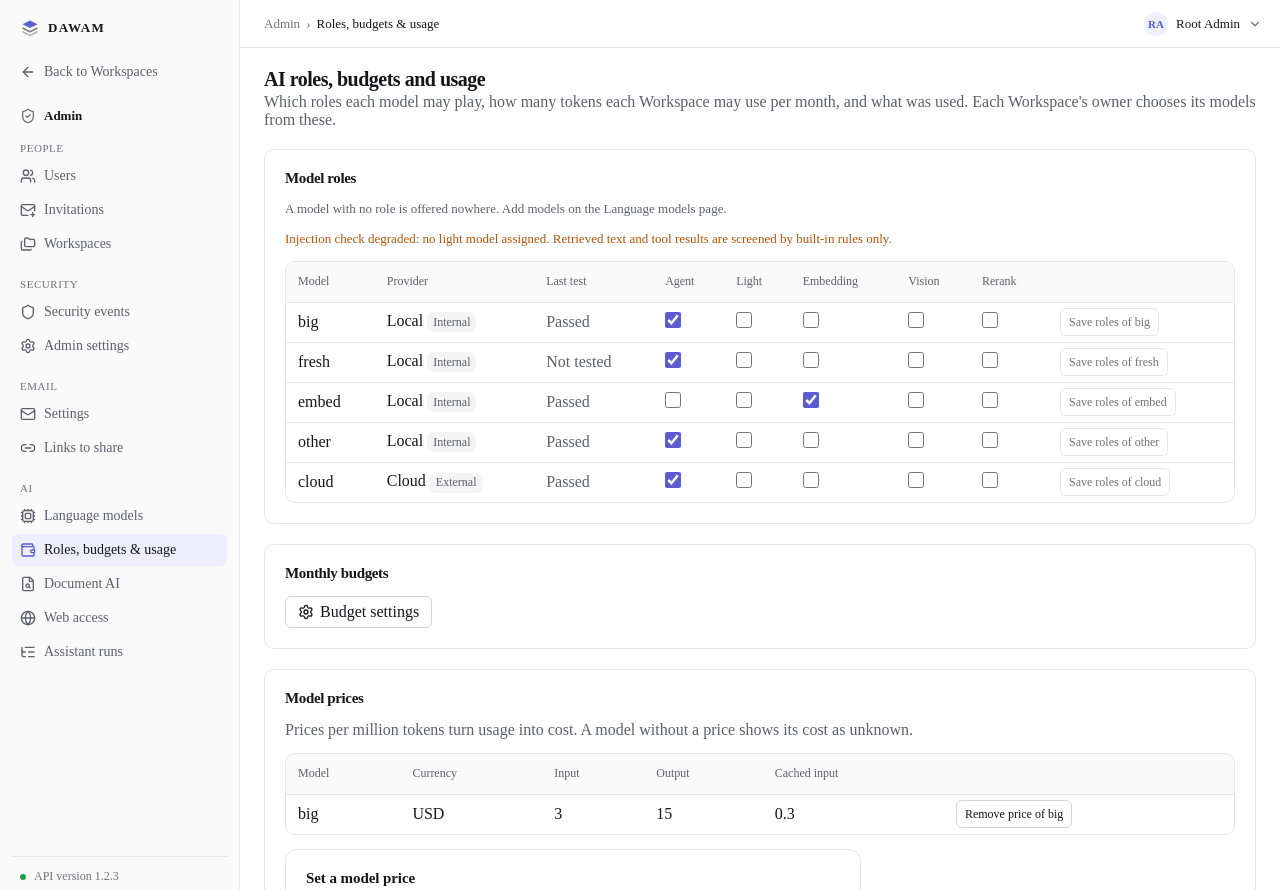
AI roles, budgets and usage page › unticking a role a Workspace depends on › asks for a replacement per Workspace and role, then saves with it
Click the checkbox named "Agent role of big". click: (673, 320)
box: [665,312,681,328]
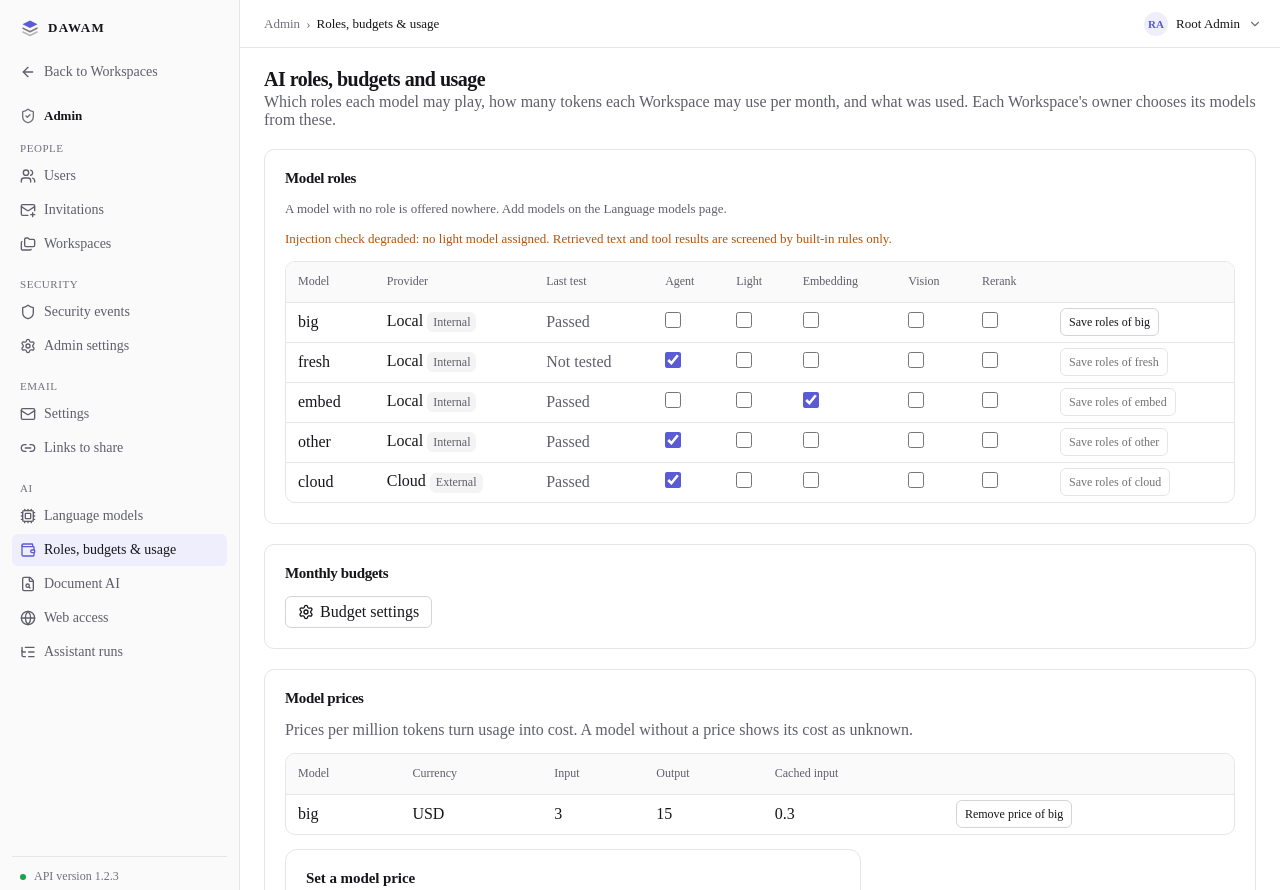
Click the button "Save roles of big". click: (1110, 322)
box: [1060,308,1159,336]
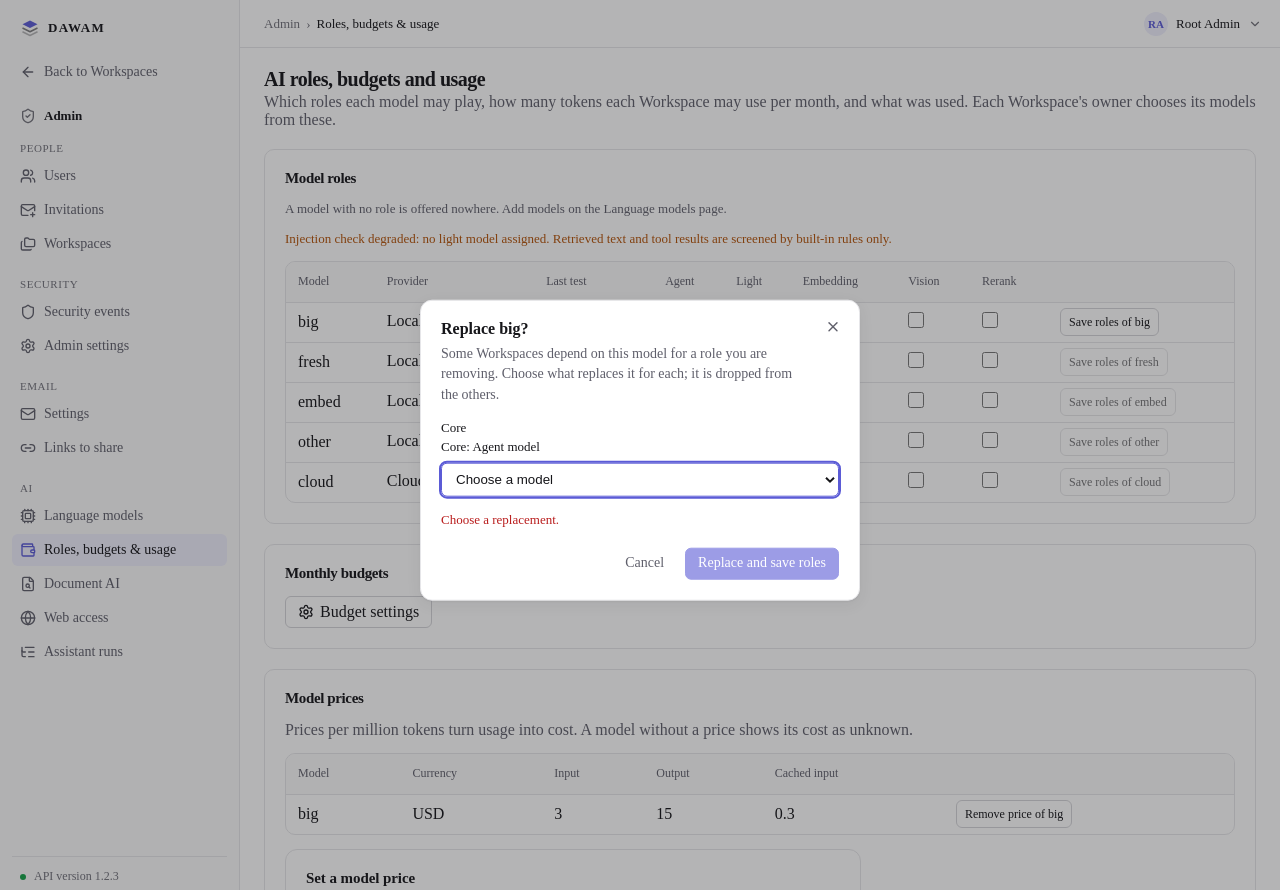
Expected: the button "Replace and save roles" is disabled, [685,547,839,579]
Select "other" in the dropdown labelled "Core: Agent model". click: (640, 480)
box: [441,462,839,496]
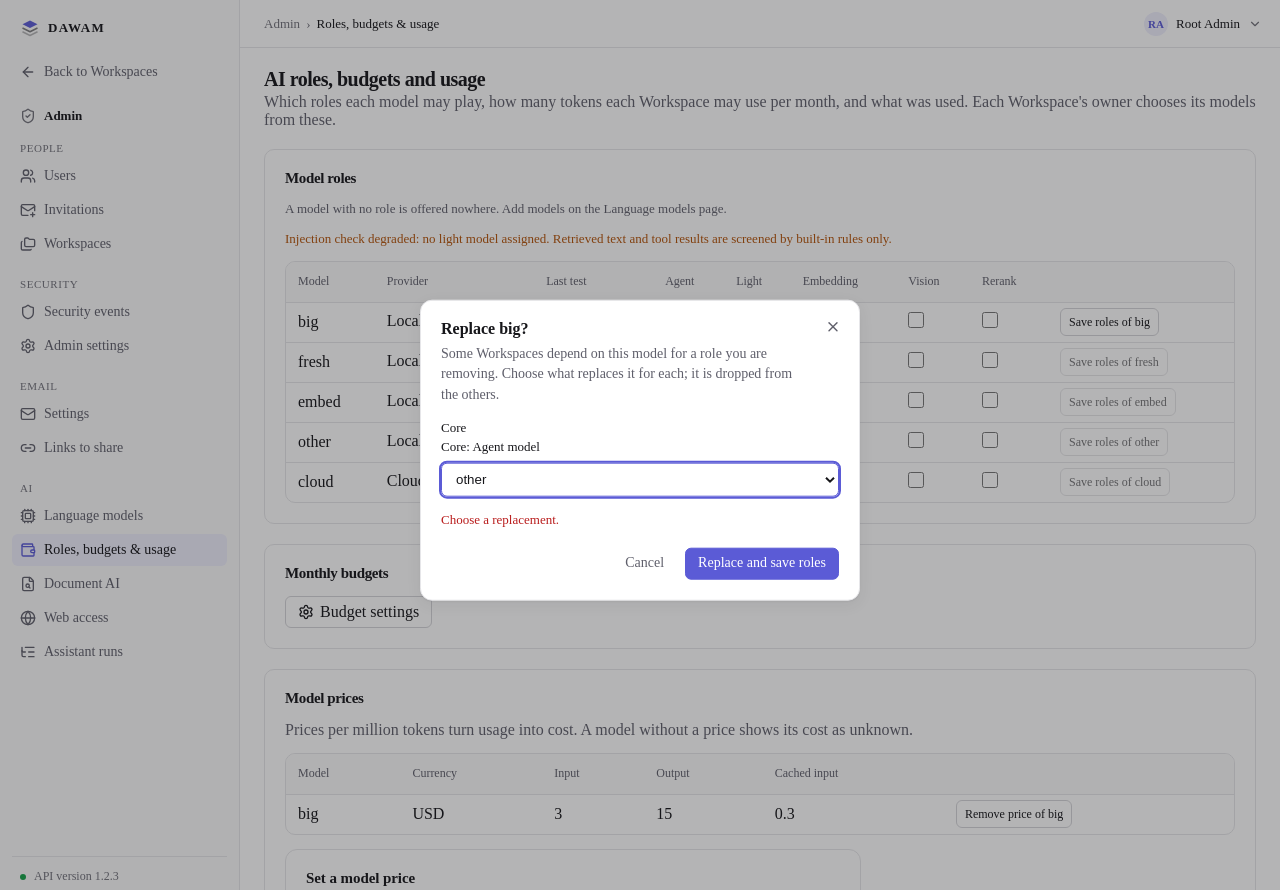
Click the button "Replace and save roles". click: (762, 563)
box: [685,547,839,579]
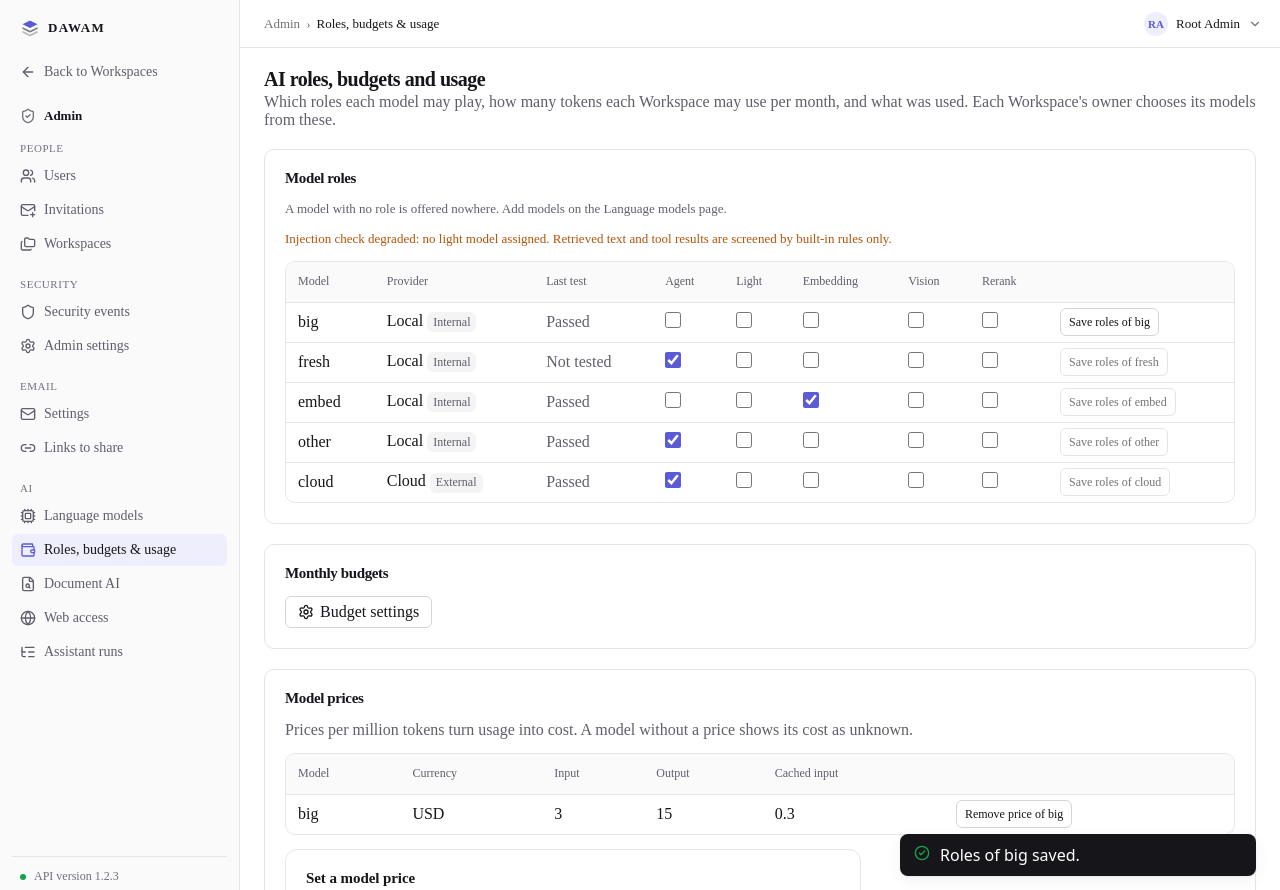
Expected: the heading "Replace big?" is gone
